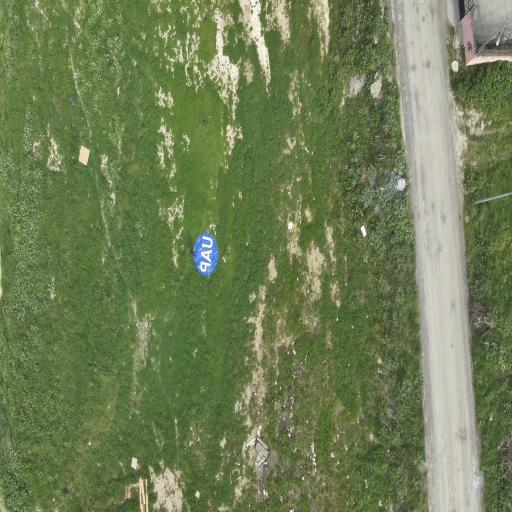UAP: (194, 232, 218, 275)
person: (190, 249, 194, 256)
